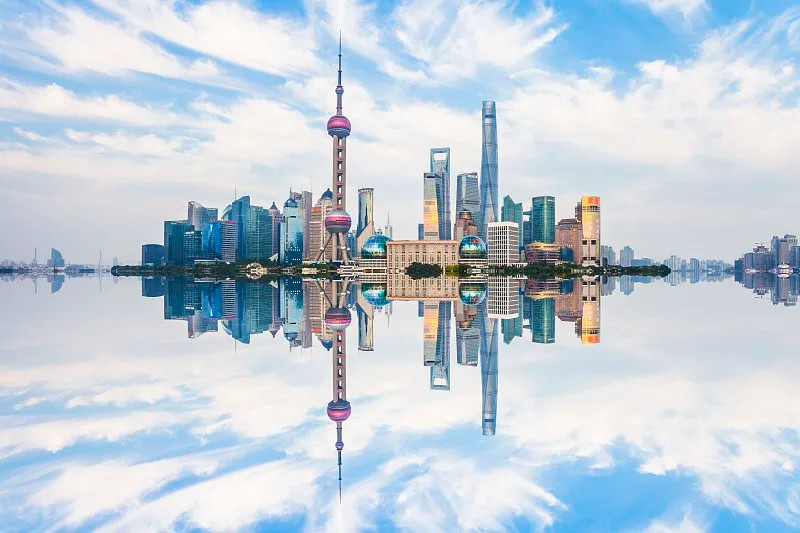Oriental: (316, 28, 354, 264)
